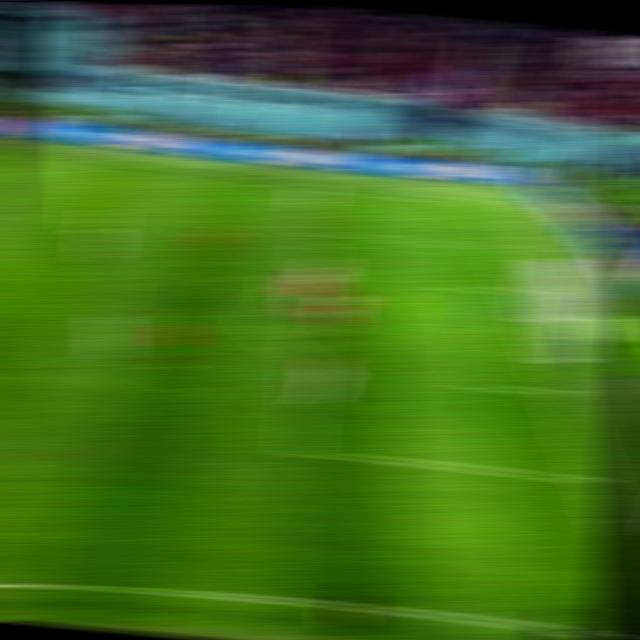bigarea_bottom_inner: (277, 440, 318, 463)
bigarea_bottom_outter: (576, 469, 611, 489)
bigarea_top_inner: (300, 227, 329, 237)
bigarea_top_outter: (490, 241, 518, 251)
bottom_arc_area_intersection: (289, 347, 321, 363)
corner: (473, 200, 500, 207)
smallarea_bottom_inner: (456, 373, 491, 393)
smallarea_bottom_outter: (542, 382, 577, 401)
smallarea_top_inner: (437, 278, 468, 294)
smallarea_top_outter: (505, 284, 537, 299)
